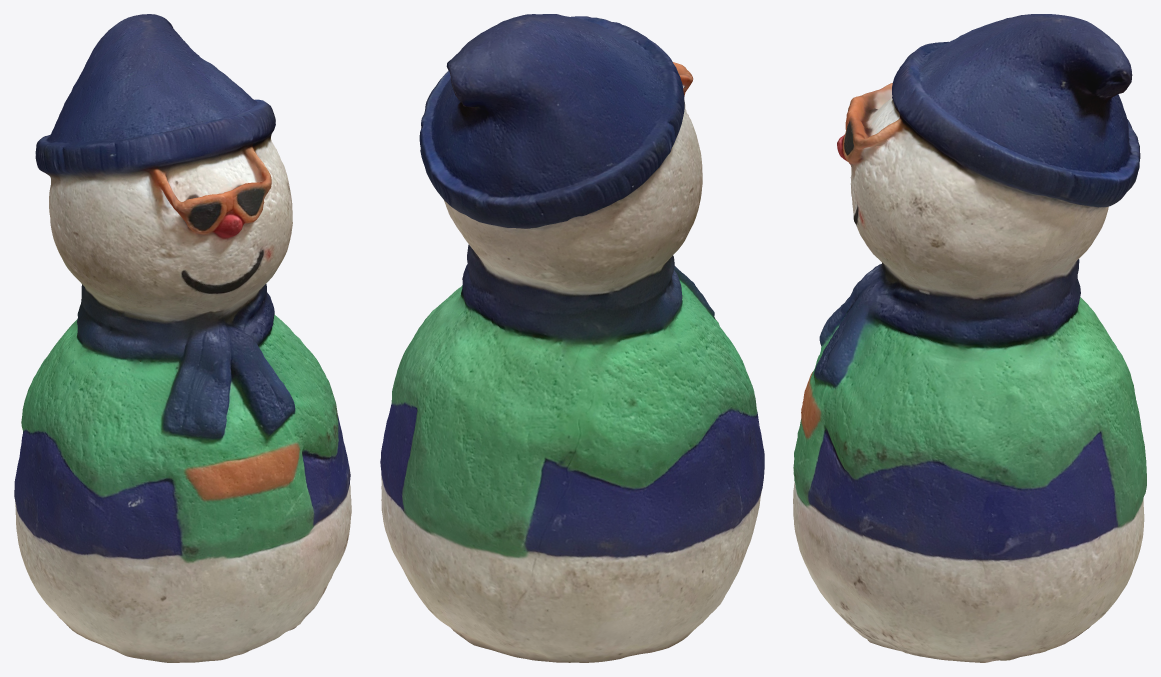
Rendered from snowman_doll.glb.
3 views of the same model, side by side, from view 1: azimuth 30°, elevation 25°; view 2: azimuth 150°, elevation 25°; view 3: azimuth 270°, elevation 25° (orthographic). The views are drawn at different scales.
Visible parts, largest first — view 1: Object_2; view 2: Object_2; view 3: Object_2.
Boxes of the visible parts, <box> form: Object_2: <box>14,14,351,662</box>; Object_2: <box>380,14,764,662</box>; Object_2: <box>793,14,1146,662</box>.
Bounding box in the file's own units: 83.03 × 148 × 80.32.
1 material, 1 textured.
